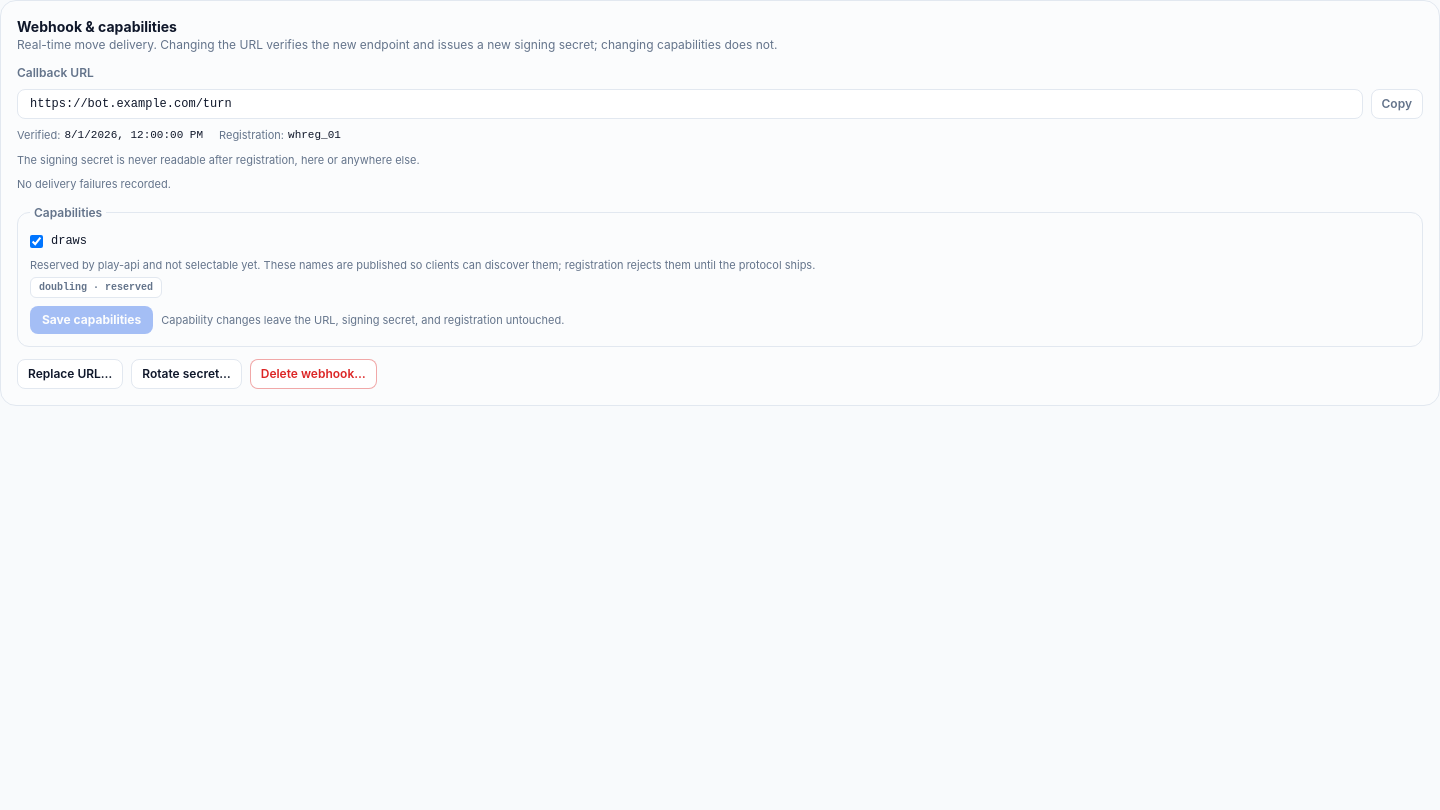
Test: BotWebhookPanel › inaccessible actions › withdraws staging controls when the server has no verification transport
Click the button "Rotate secret…". click: click(186, 374)
box: x1=131 y1=359 x2=242 y2=389
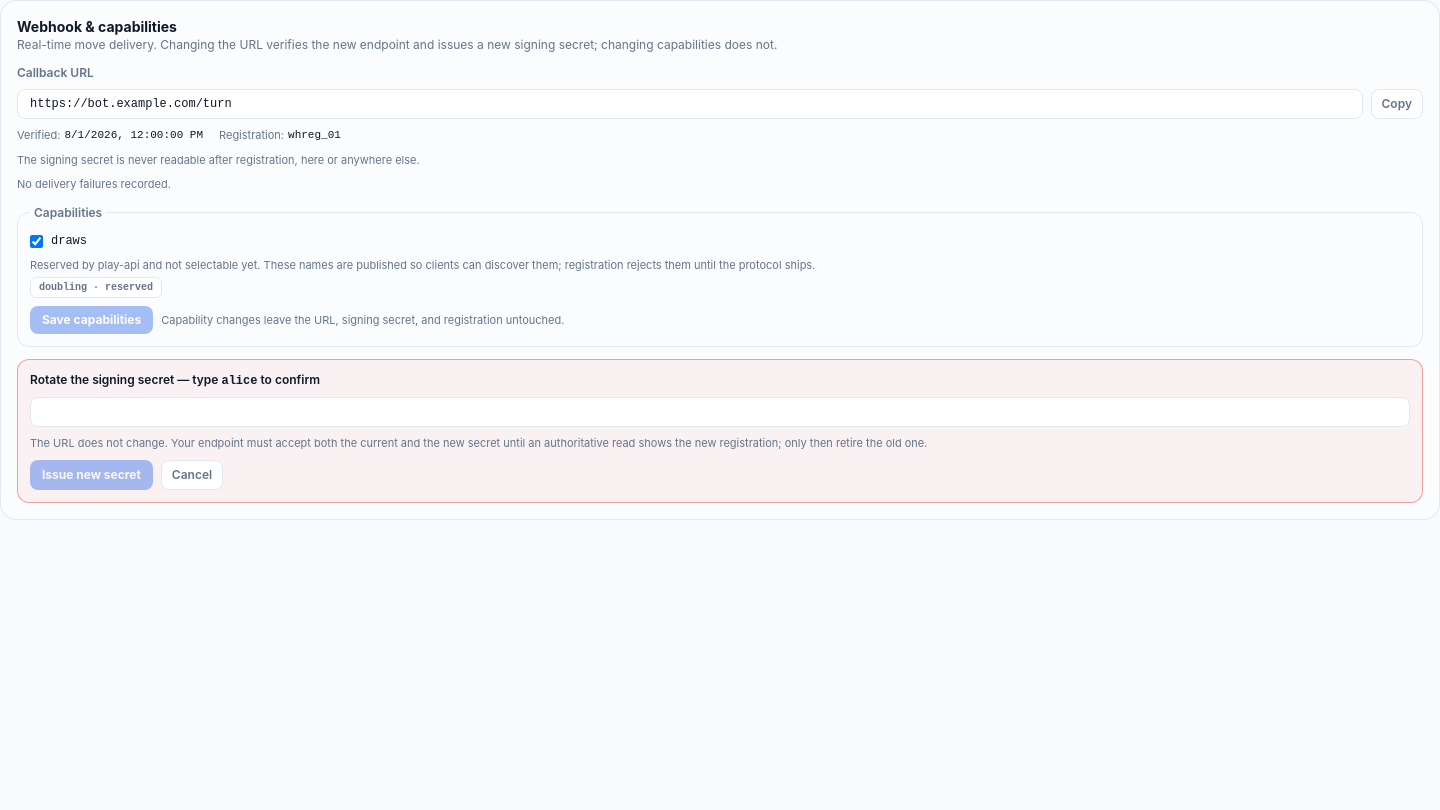
Type "alice" into the field labelled "Rotate the signing secret — type alice to confirm". click: (720, 412)
box: x1=30 y1=397 x2=1410 y2=427
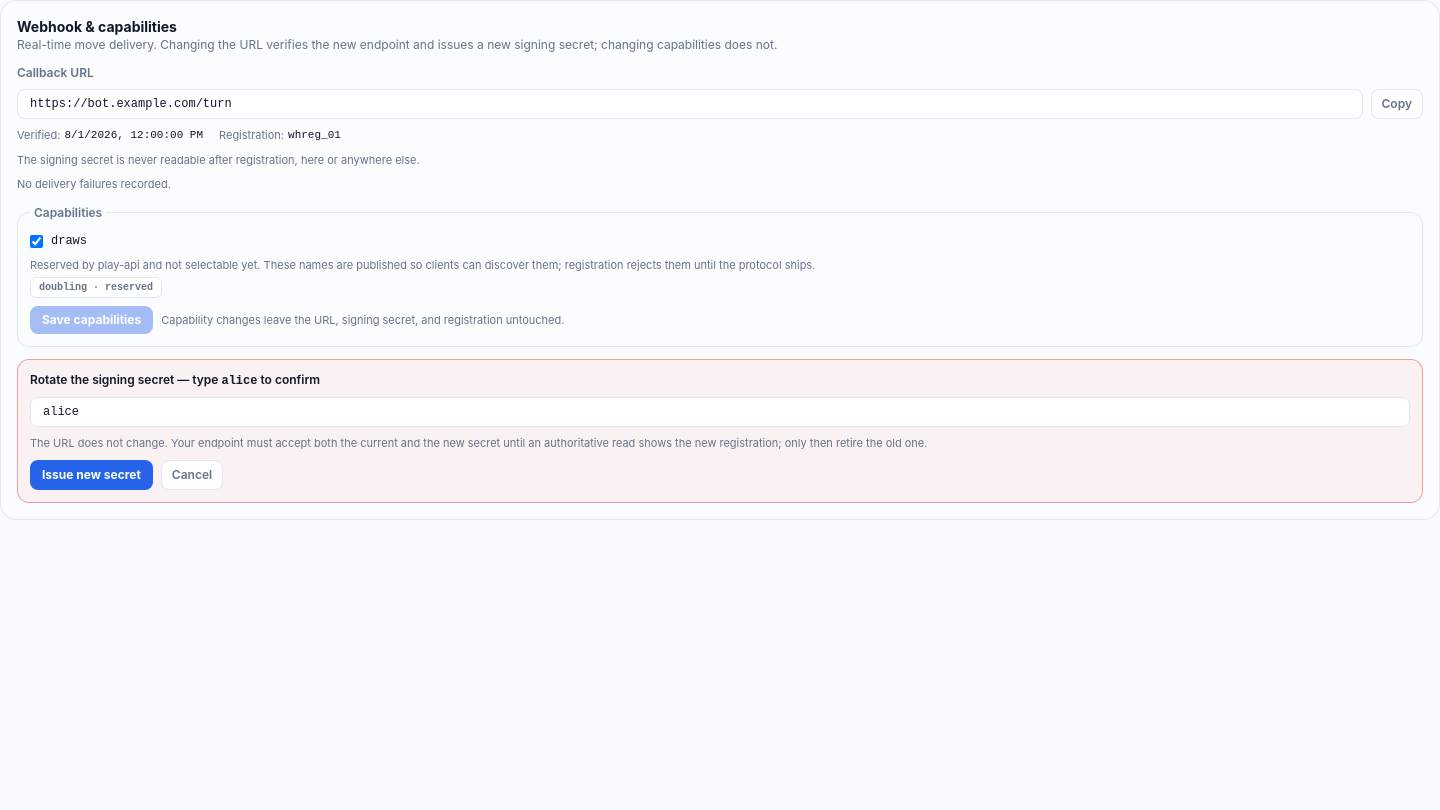
Click the button "Issue new secret". click: click(91, 474)
box: x1=30 y1=460 x2=153 y2=490
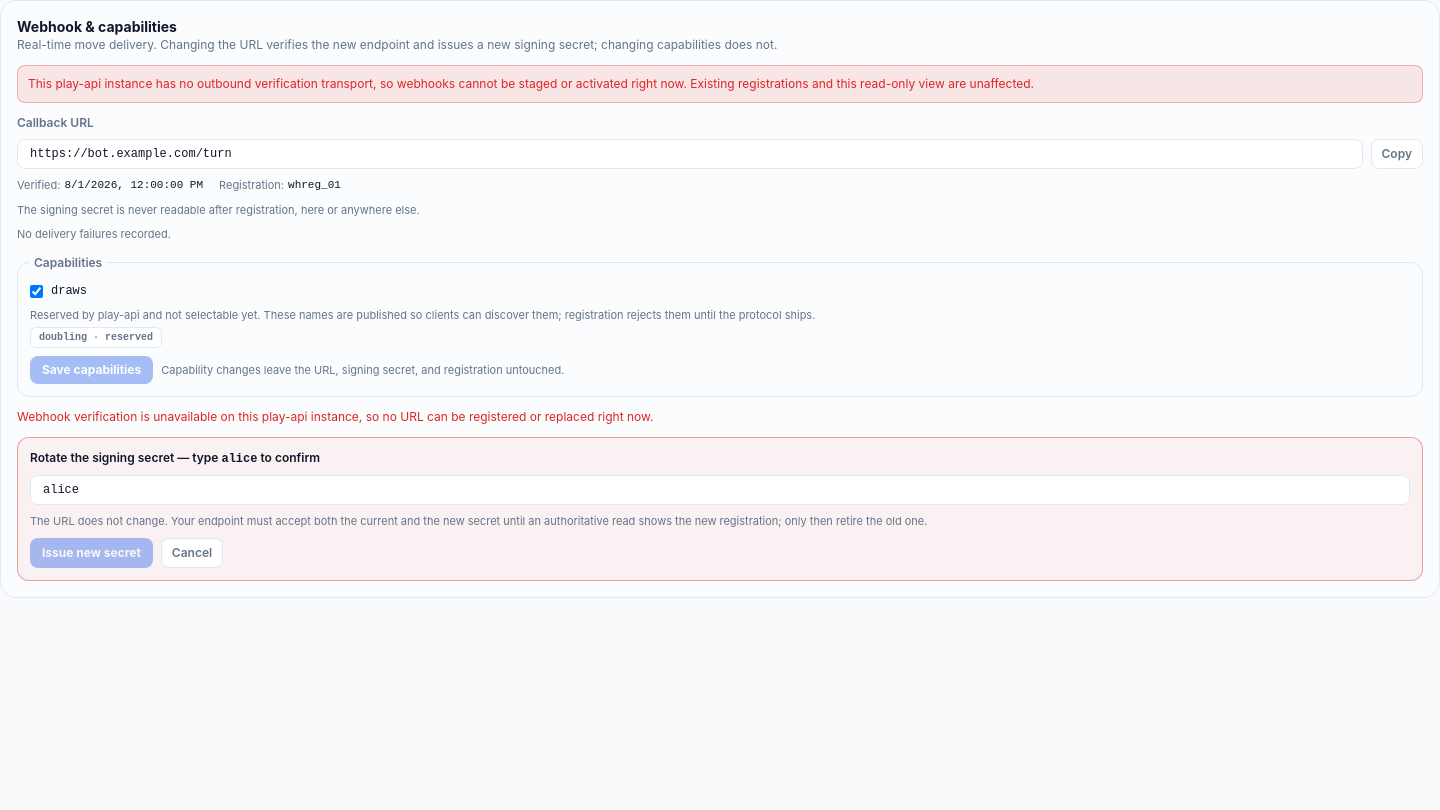
Expected: the text "Webhook verification is unavailable" is shown, x1=17 y1=409 x2=653 y2=424
Click the button "Cancel". click: click(192, 552)
box: x1=161 y1=538 x2=223 y2=568
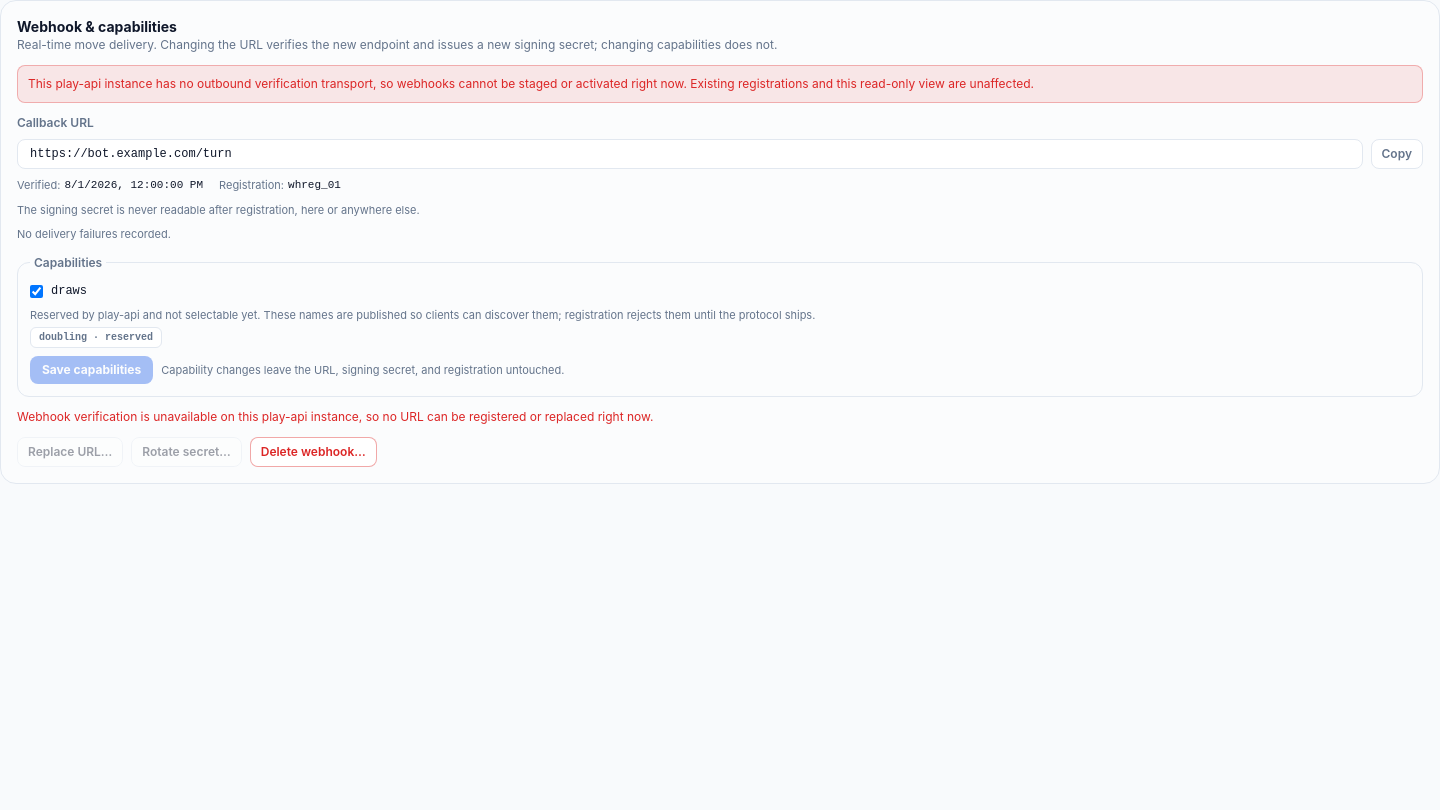
Expected: the button "Replace URL…" is disabled, x1=17 y1=437 x2=123 y2=467
Expected: the button "Rotate secret…" is disabled, x1=131 y1=437 x2=242 y2=467
Expected: the button "Delete webhook…" is enabled, x1=250 y1=437 x2=377 y2=467
